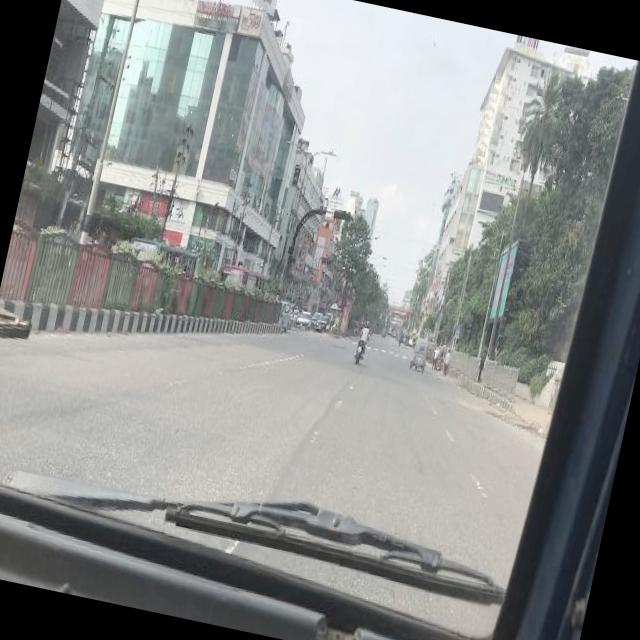bus: (124, 233, 202, 279), (220, 263, 270, 292)
car: (298, 308, 316, 328), (316, 311, 332, 329)
motorcycle: (409, 335, 432, 368), (354, 330, 371, 362), (405, 332, 412, 344), (382, 324, 388, 334)
truck: (276, 298, 296, 330)
